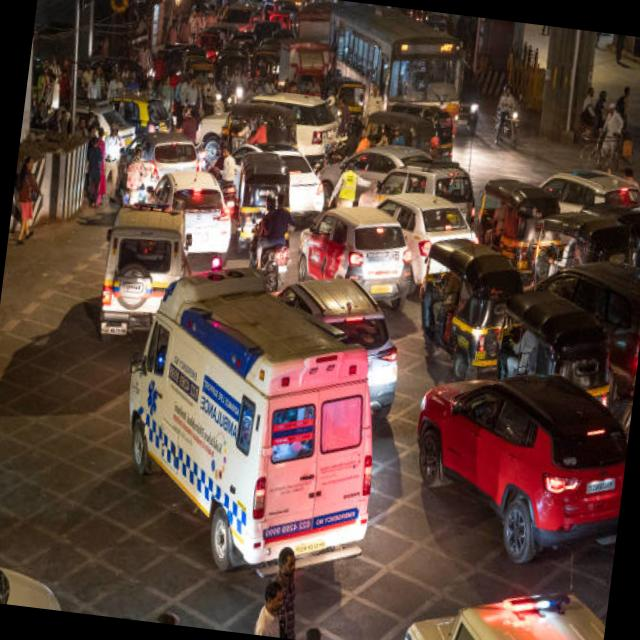ambulance: (126, 262, 372, 568)
